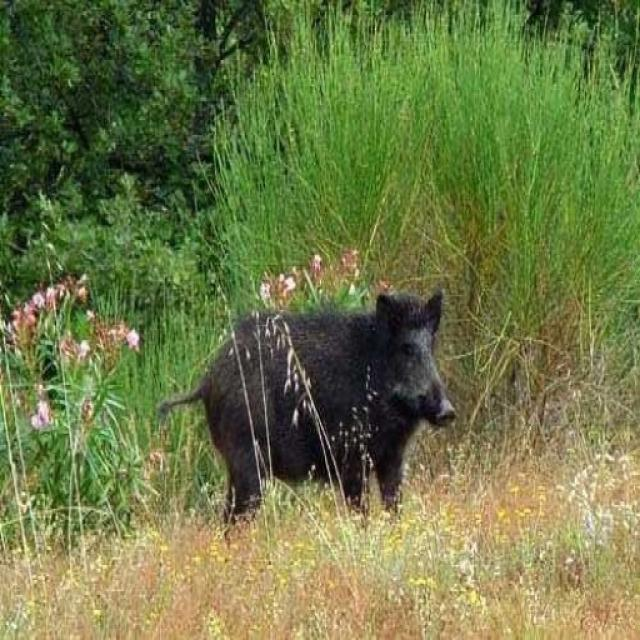pig: (149, 274, 465, 532)
